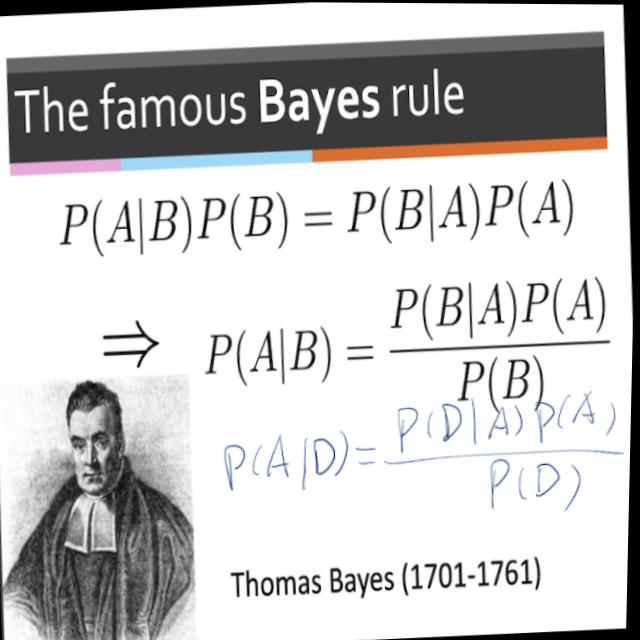equations: (196, 266, 619, 432), (217, 383, 633, 537), (48, 157, 589, 269)
